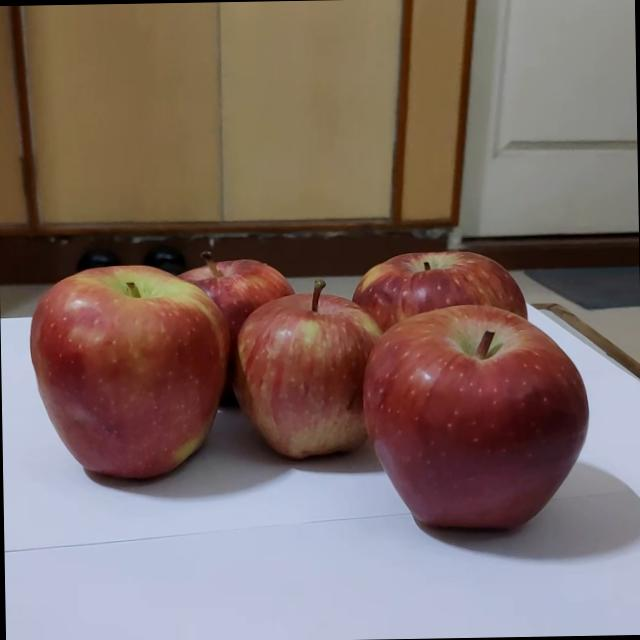apple: (322, 336, 558, 588), (376, 243, 574, 433), (41, 286, 230, 484), (221, 304, 390, 473), (198, 244, 342, 384)
